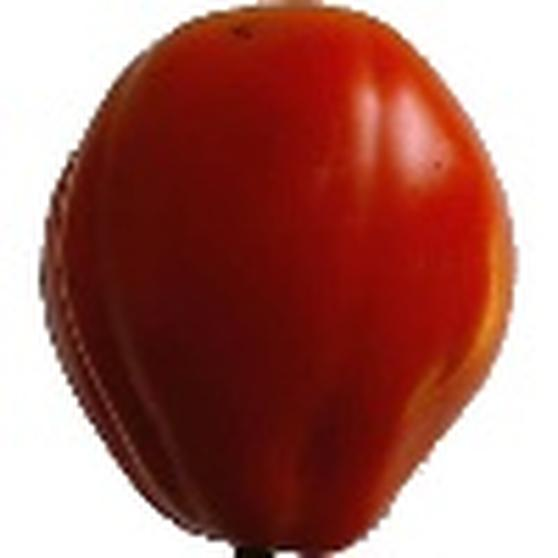tomato: (39, 6, 527, 558)
